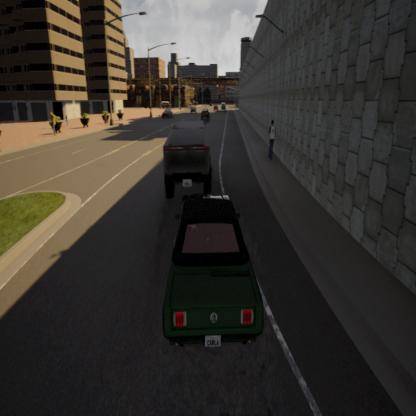Cars: (160, 198, 263, 348), (162, 124, 212, 193), (161, 107, 174, 122), (190, 101, 198, 120), (202, 108, 210, 120), (220, 104, 228, 112), (213, 105, 220, 112)
Pedestrian: (266, 120, 276, 165), (51, 115, 57, 135), (64, 112, 71, 126), (102, 113, 109, 124)
